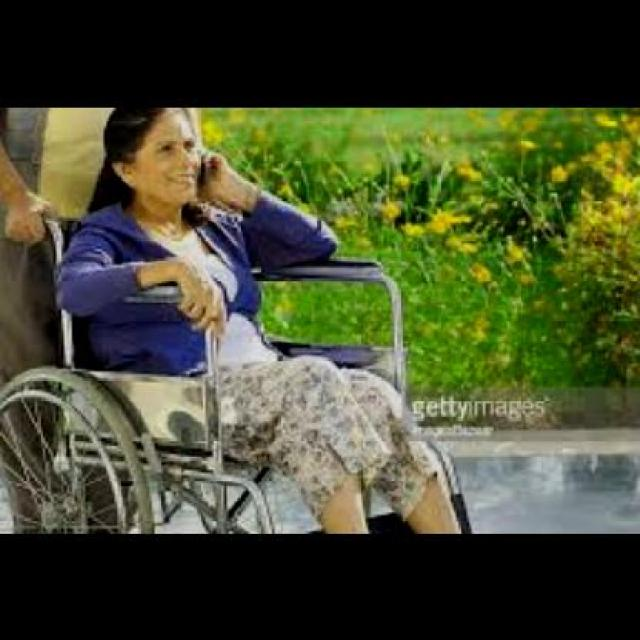wheelchairs: (0, 188, 484, 536)
